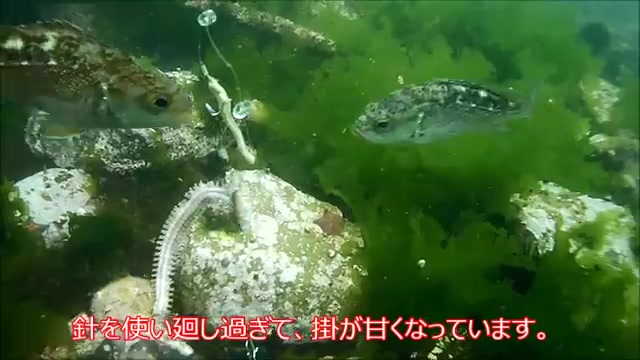mebaru: (1, 12, 200, 130), (349, 65, 534, 143)
